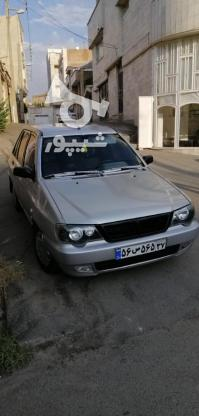car: (114, 239, 167, 259)
